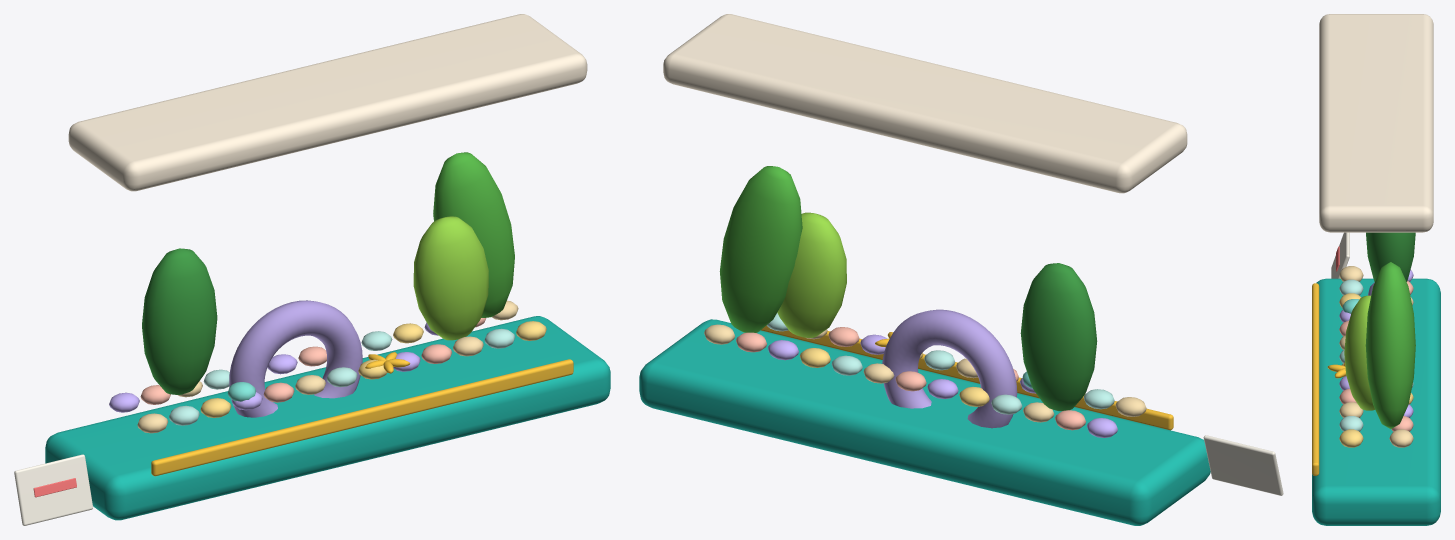
File: WindowDisplay.fbx
3 renders of one model, left to right at view 1: azimuth 30°, elevation 25°; view 2: azimuth 150°, elevation 25°; view 3: azimuth 270°, elevation 25°, orthographic. The views are drawn at different scales.
Visible parts, largest first — view 1: WindowDisplay mesh; view 2: WindowDisplay mesh; view 3: WindowDisplay mesh.
Boxes of the visible parts, <box> form: WindowDisplay mesh: <box>14,14,610,525</box>; WindowDisplay mesh: <box>639,14,1283,525</box>; WindowDisplay mesh: <box>1312,14,1440,525</box>.
Bounding box in the file's own units: 0.83 × 0.48 × 0.18.
